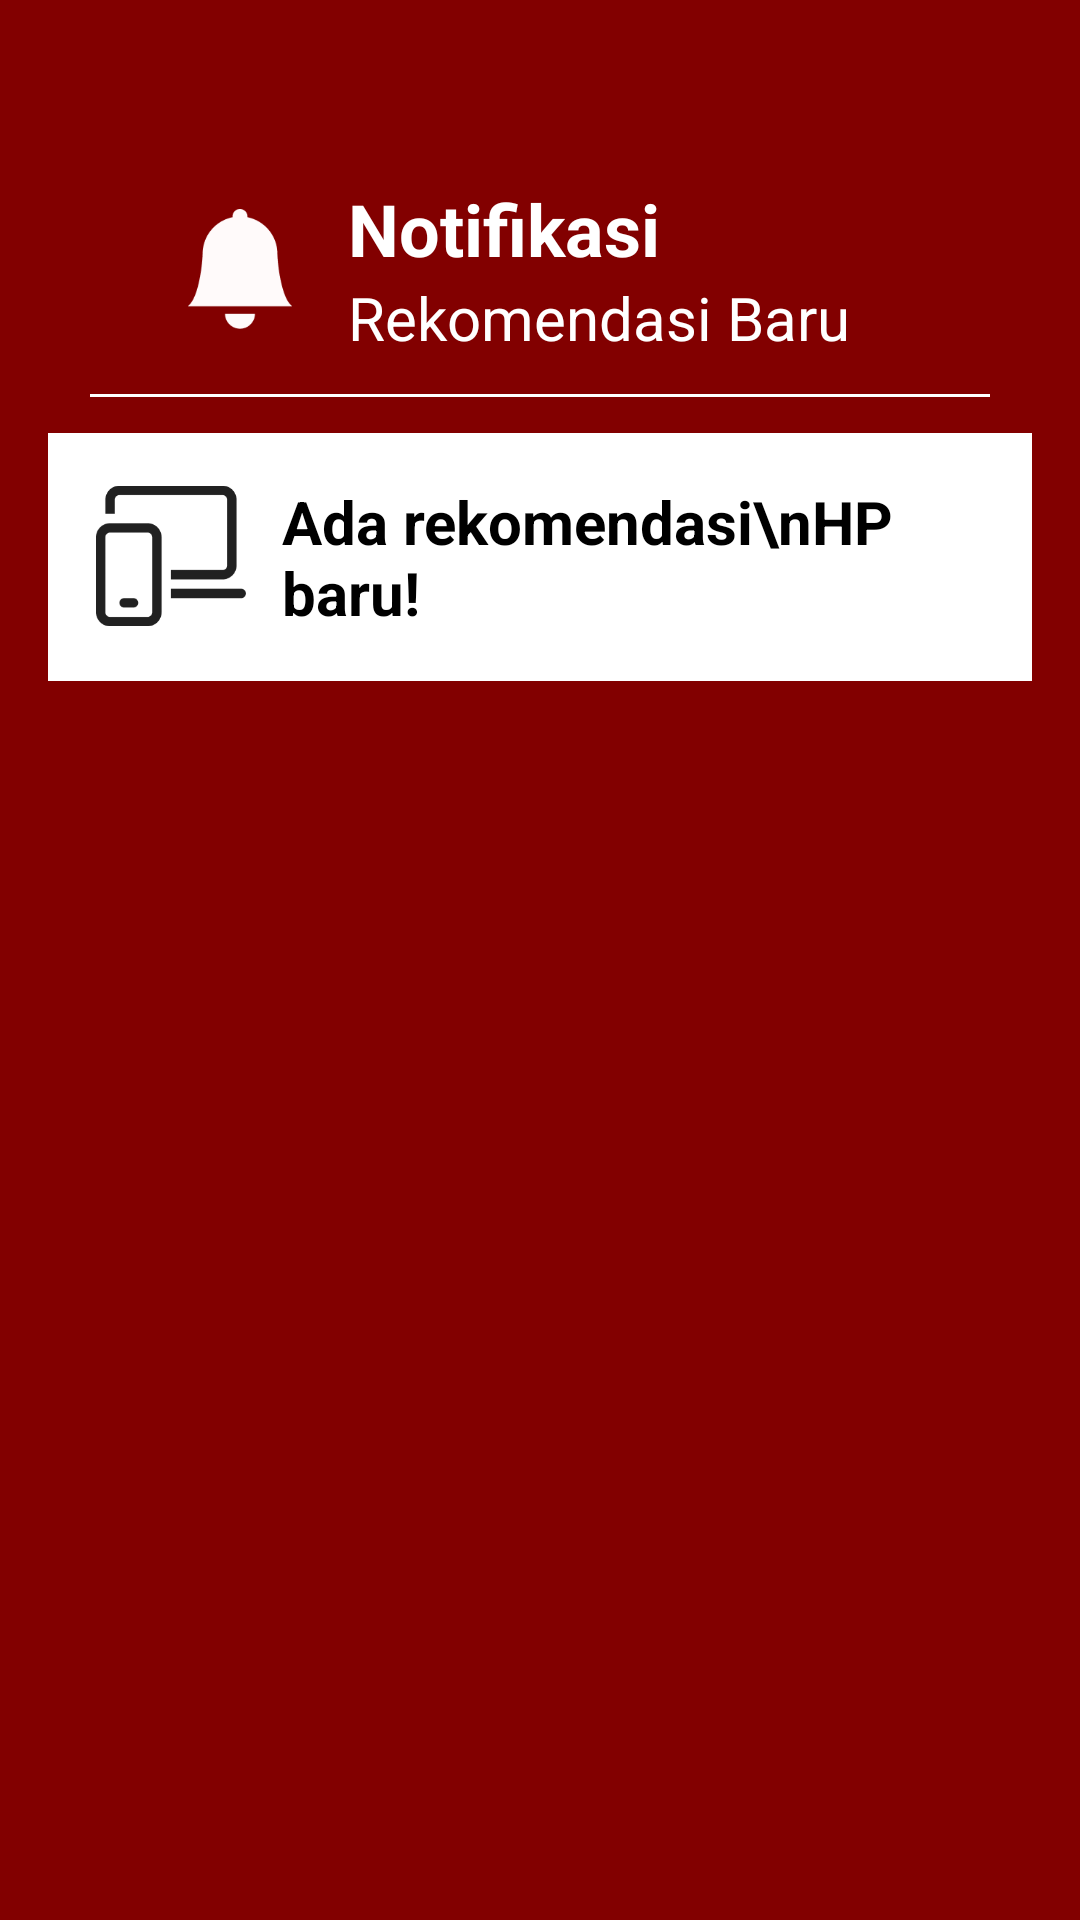

Named icons in this screenshot (1080px×1920px) and their bounding boxes, (x1, y1, x2, y2):
lonceng: (188, 209, 292, 329)
phone laptop: (96, 486, 246, 626)
